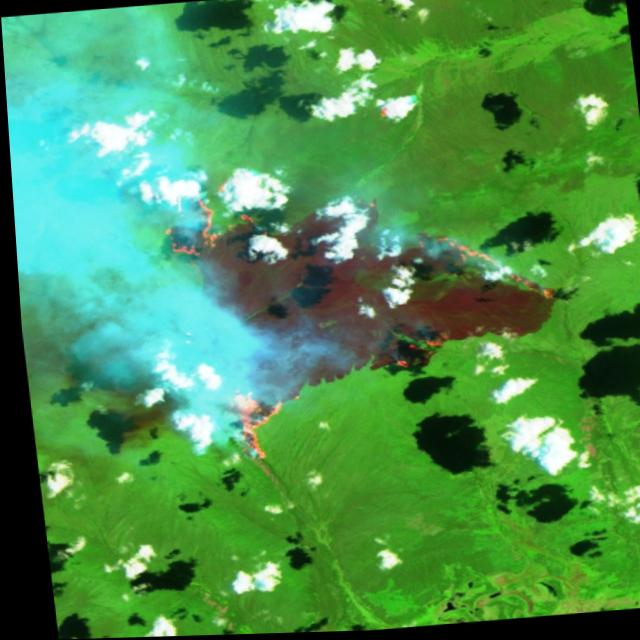fire: (404, 222, 561, 317), (149, 168, 261, 269), (218, 386, 283, 466), (374, 325, 442, 374)
